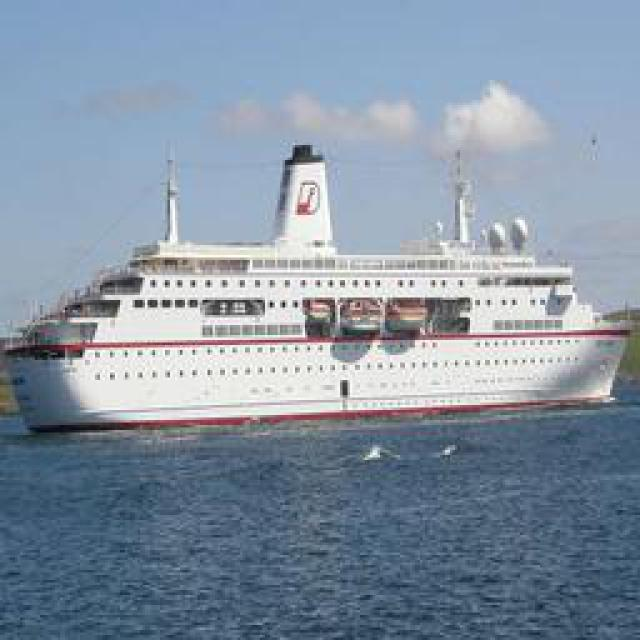Ship: (11, 131, 624, 431)
